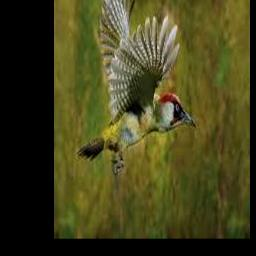Woodpecker: (76, 0, 196, 175)
